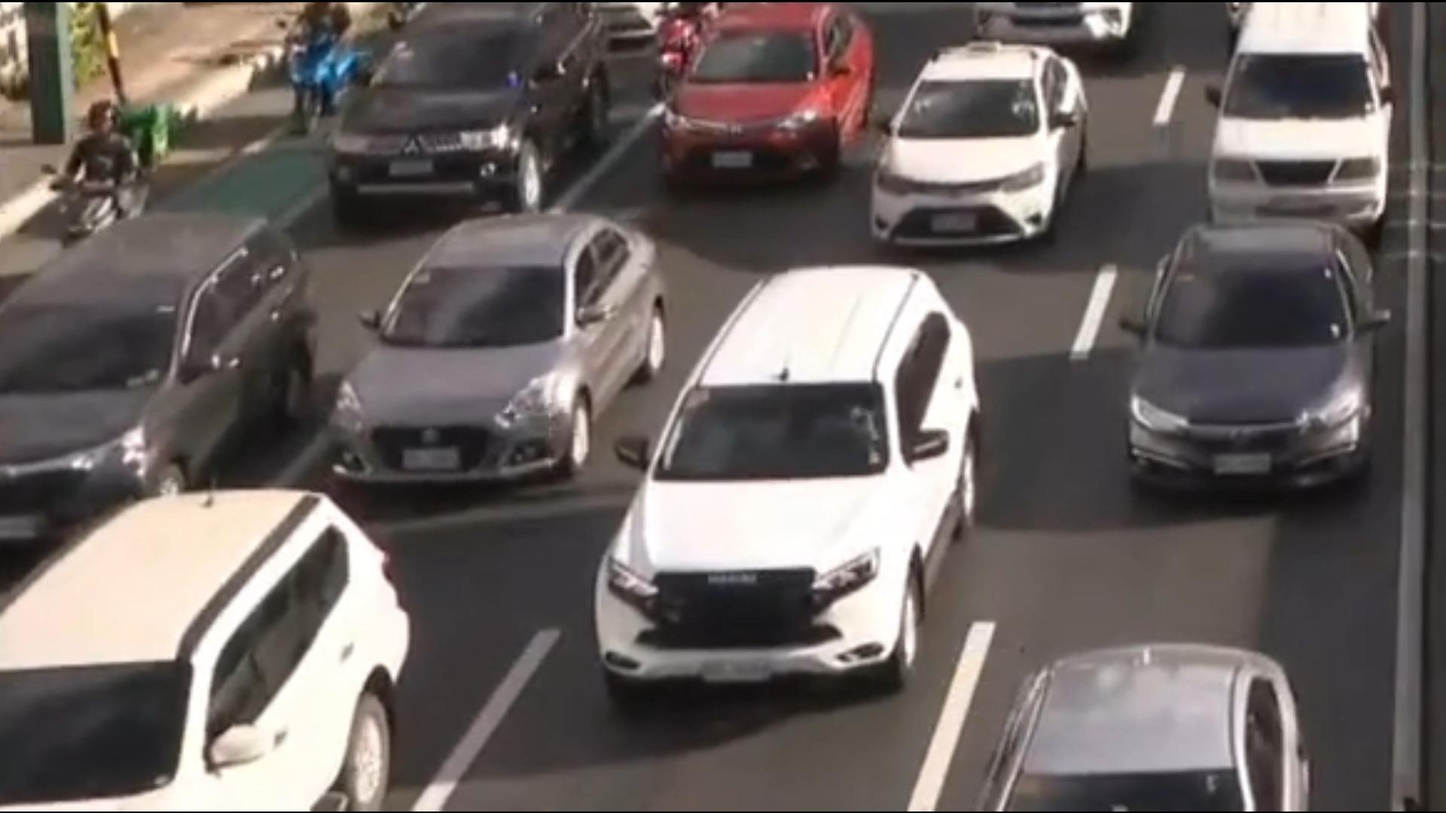Motorcycle: (30, 81, 185, 246), (271, 0, 373, 140), (629, 0, 707, 74)
SUV: (572, 254, 1013, 730), (0, 493, 462, 813), (0, 211, 328, 559), (331, 0, 618, 217), (1174, 2, 1412, 244), (641, 0, 903, 200)
Sedan: (307, 207, 682, 533), (1096, 211, 1403, 498), (835, 36, 1115, 303), (949, 642, 1329, 813)
